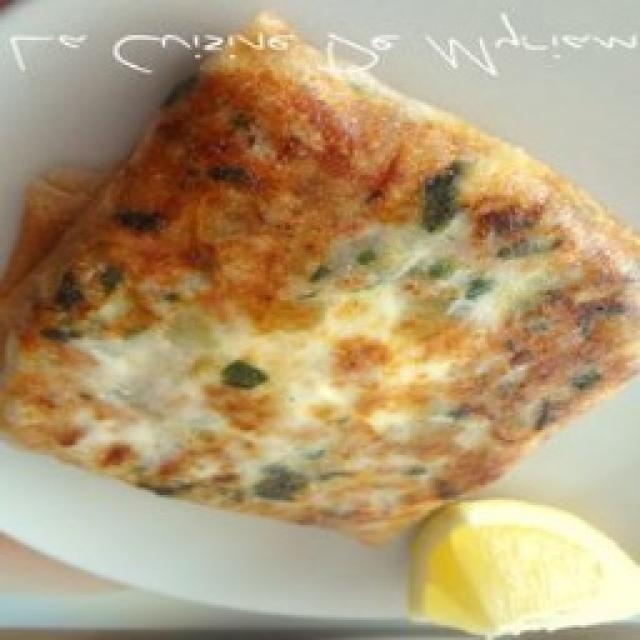Brik: (0, 26, 640, 545)
